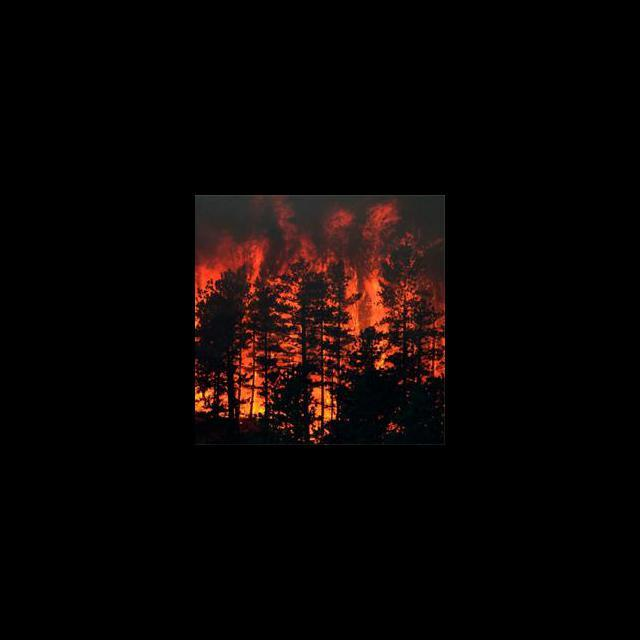Fire: (196, 199, 444, 420)
